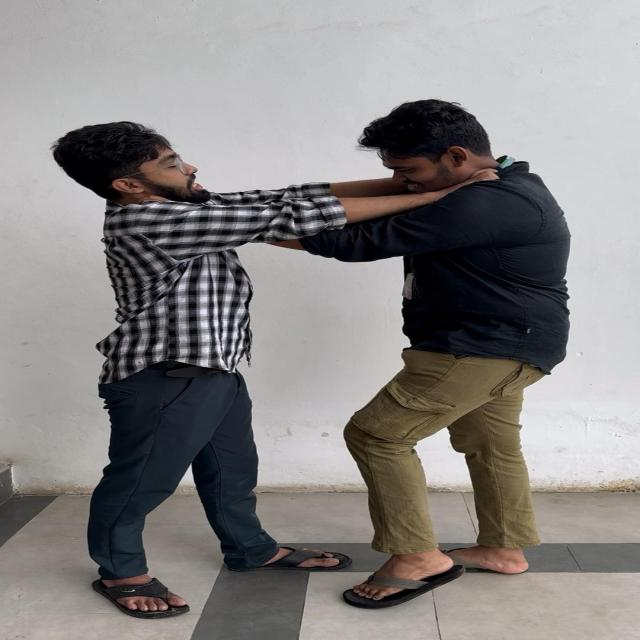fight: (31, 95, 584, 615)
